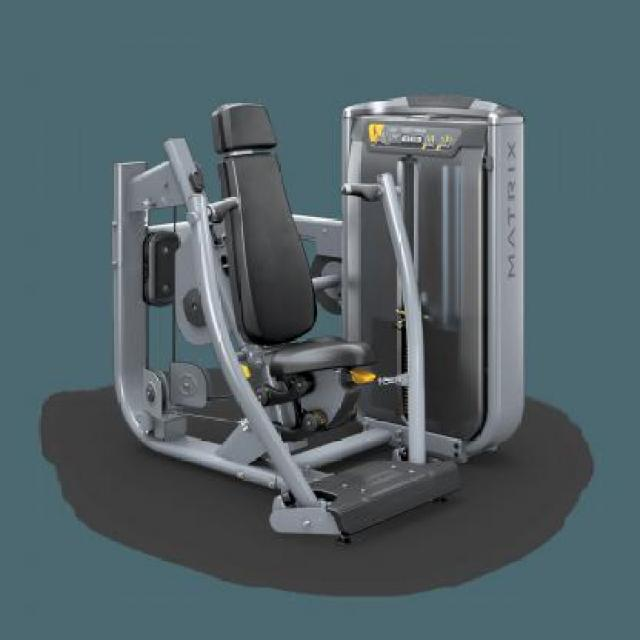Chest Press machine: (105, 70, 543, 562)
